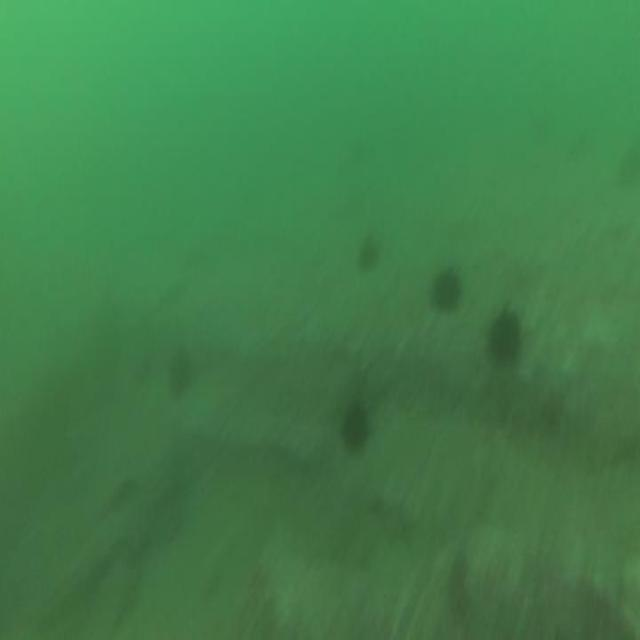echinus: (484, 304, 524, 374), (429, 260, 464, 318), (338, 394, 370, 456), (163, 342, 191, 398), (352, 229, 380, 275)
